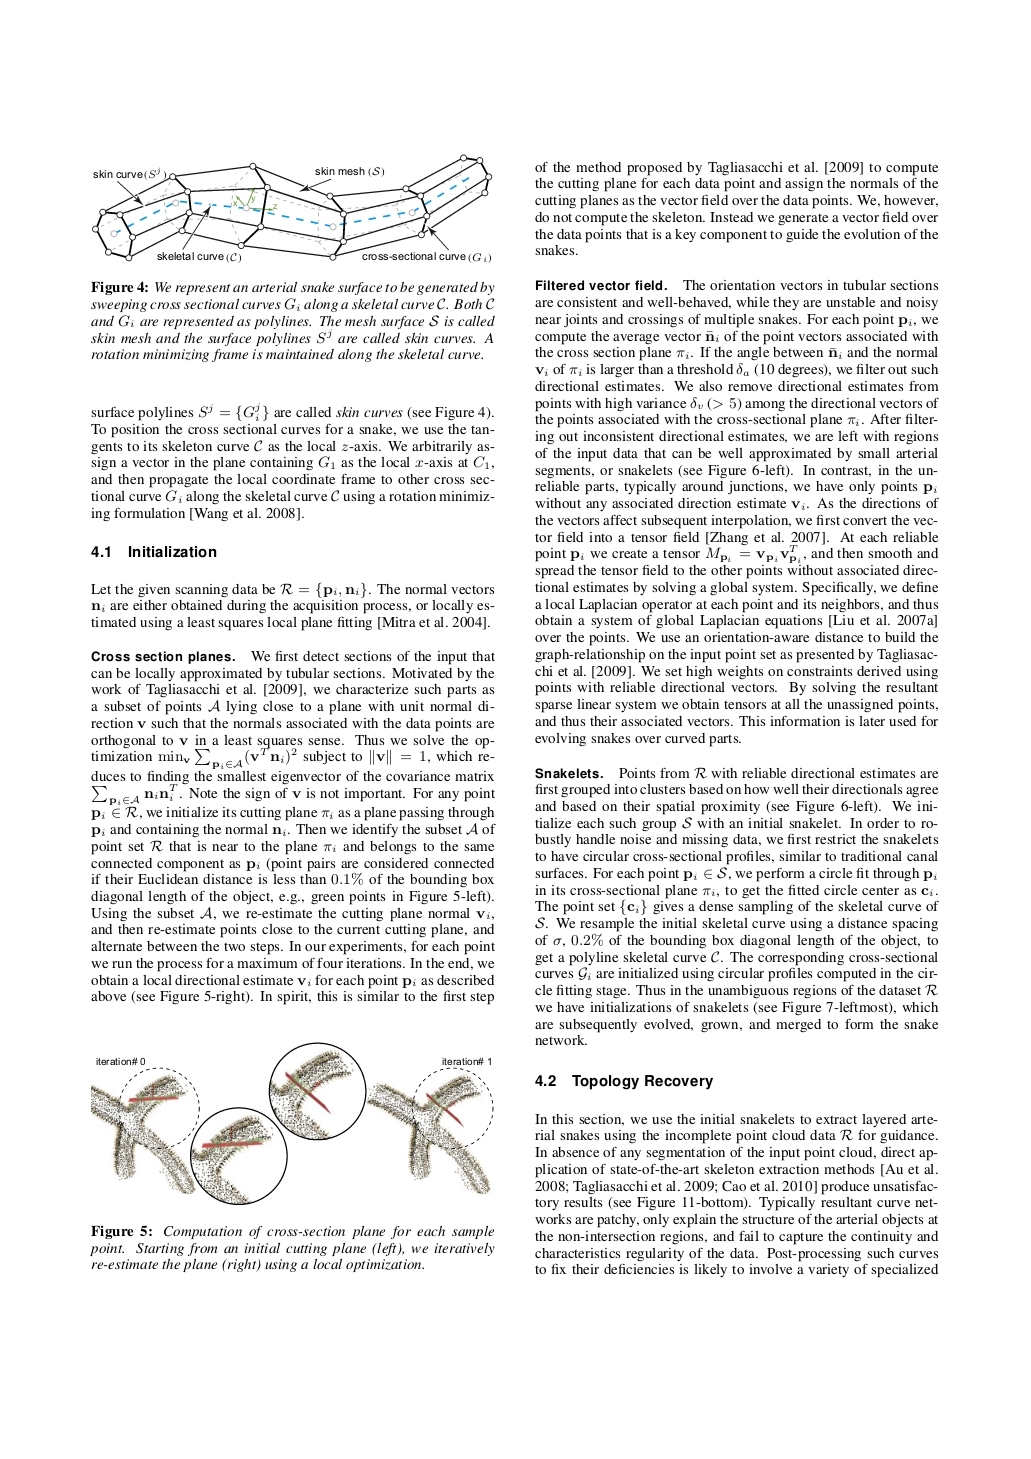figure: (91, 1041, 493, 1205), (91, 152, 492, 263)
